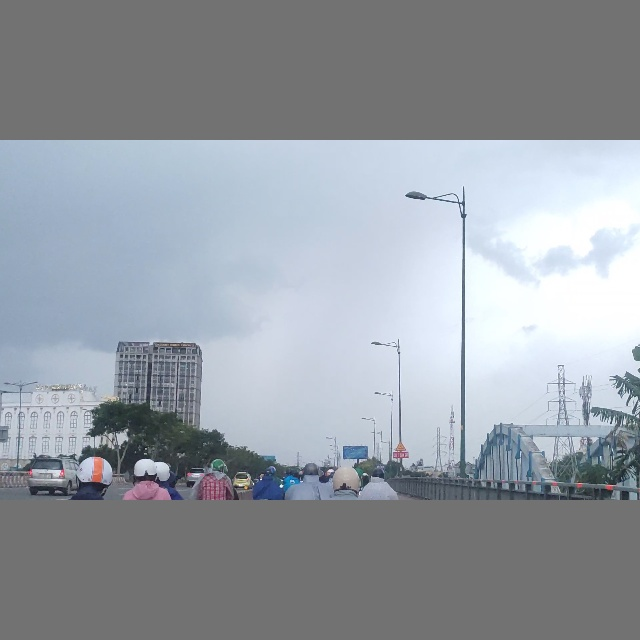W.245a: (394, 441, 406, 451)
